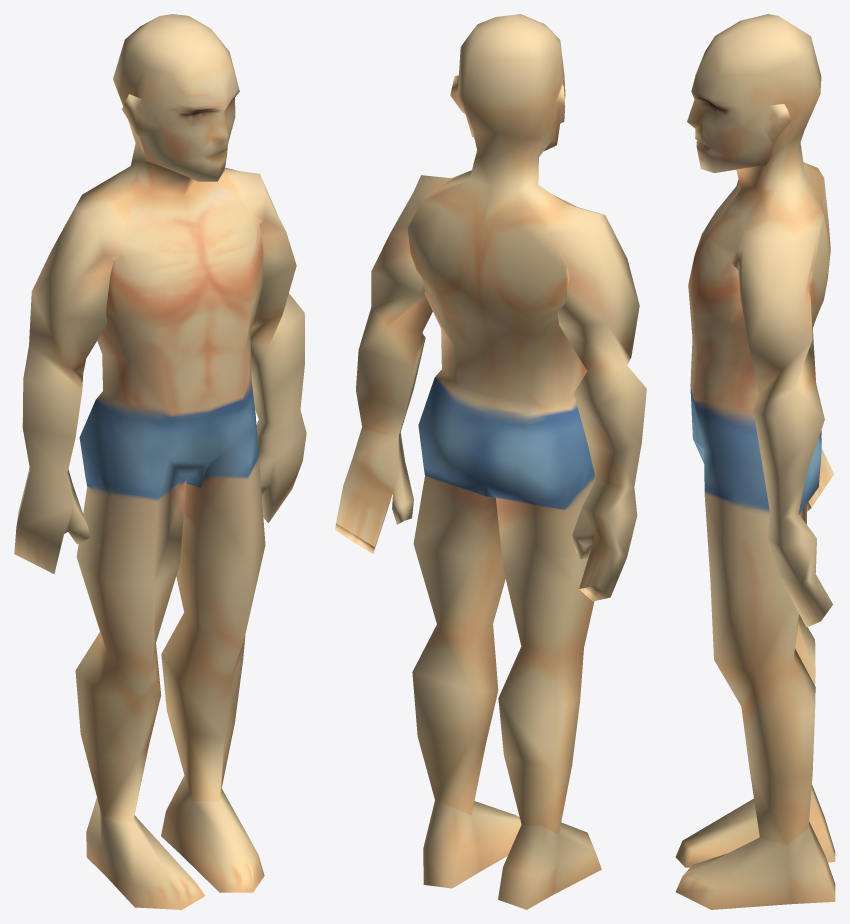
The model's file is StandingBody_Male_a_1.fbx.
3 renders of one model, left to right at view 1: azimuth 30°, elevation 25°; view 2: azimuth 150°, elevation 25°; view 3: azimuth 270°, elevation 25°, orthographic.
Parts seen in each view (by area): view 1: Body.015; view 2: Body.015; view 3: Body.015.
Part boxes in pixels (left/top/right/bottom): Body.015: left=14, top=14, right=306, bottom=909; Body.015: left=335, top=14, right=646, bottom=909; Body.015: left=675, top=14, right=835, bottom=909.
Size of the model in its own units: 0.3532 by 0.986 by 0.167.
